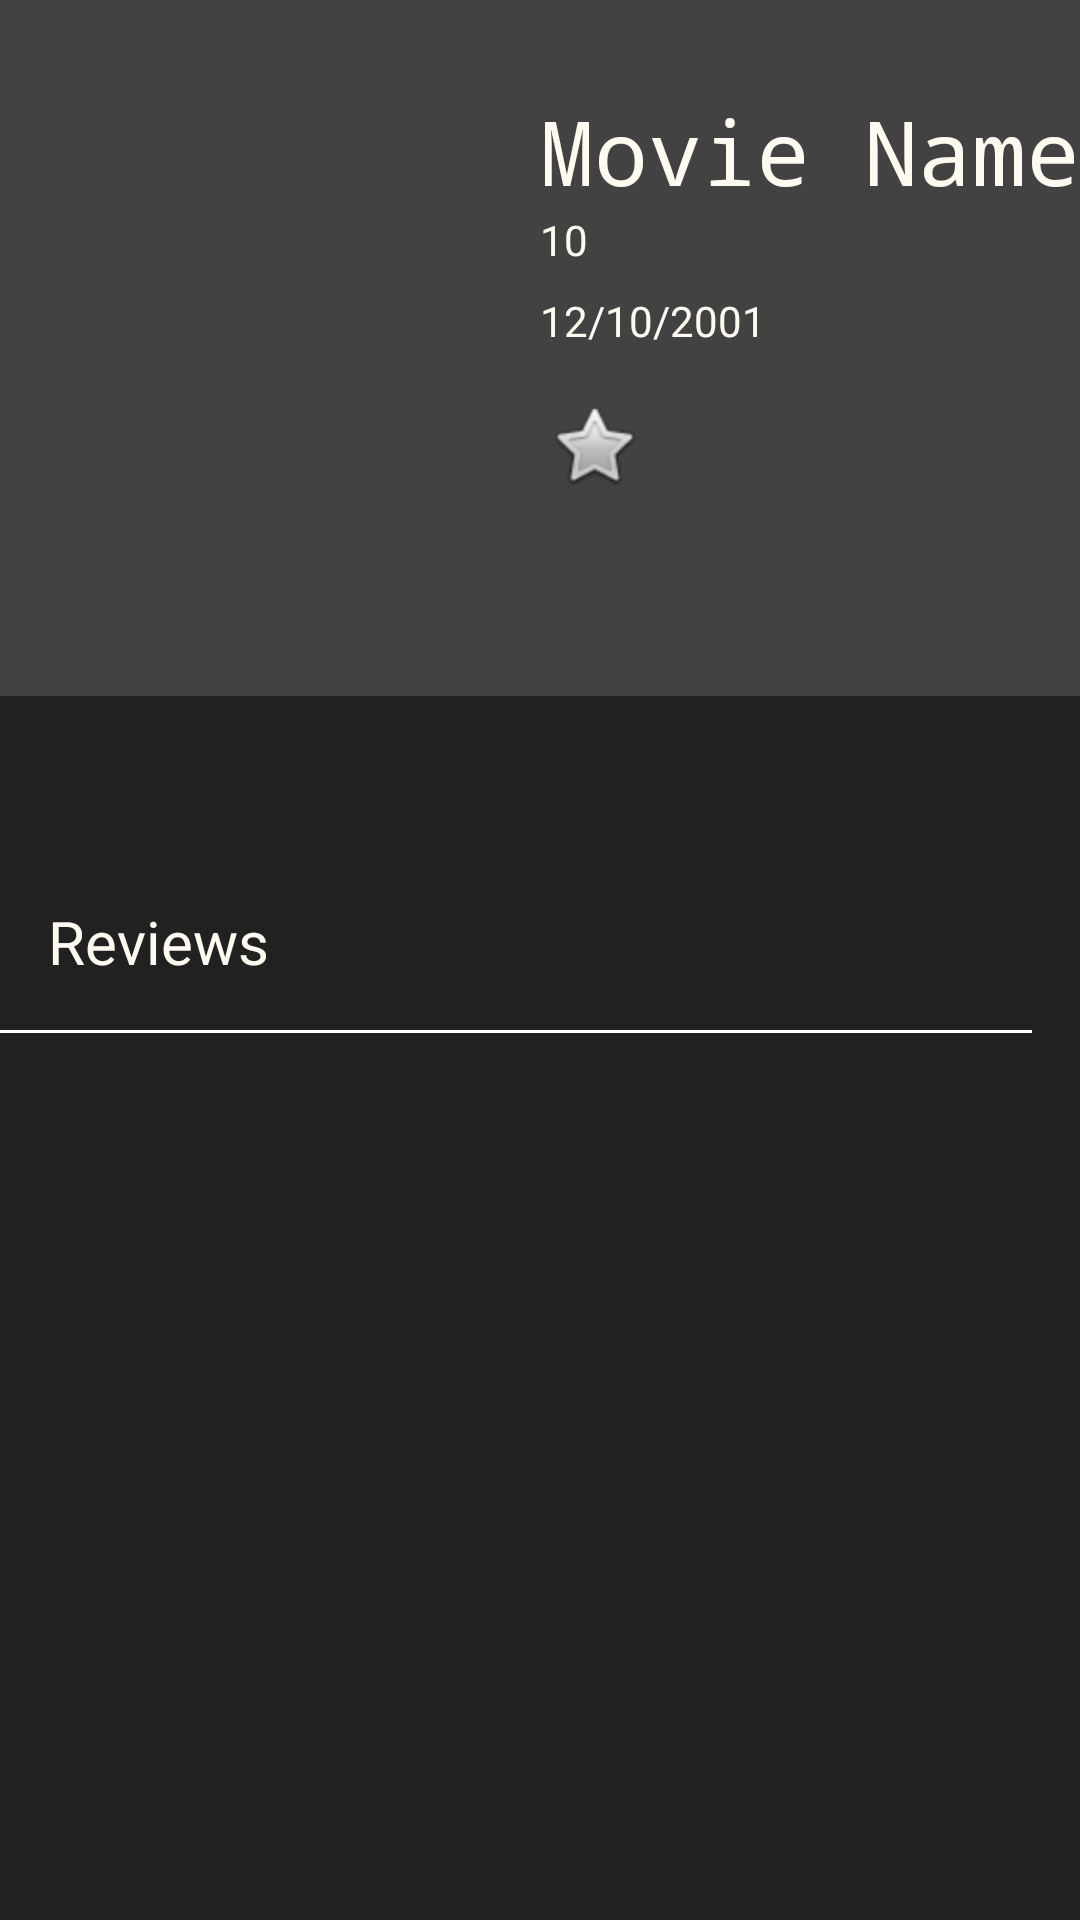

Icon click points for this 1080 x 1920 phone screenshot, format (x,y):
Movie Rating Star Image: (595,444)
